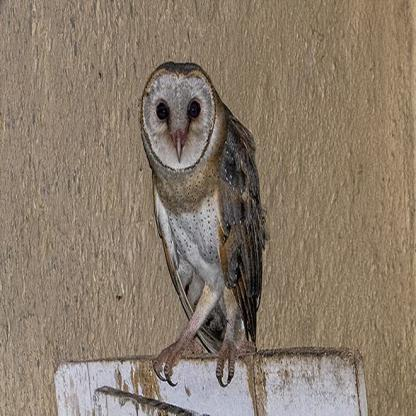Burung: (140, 59, 268, 391)
